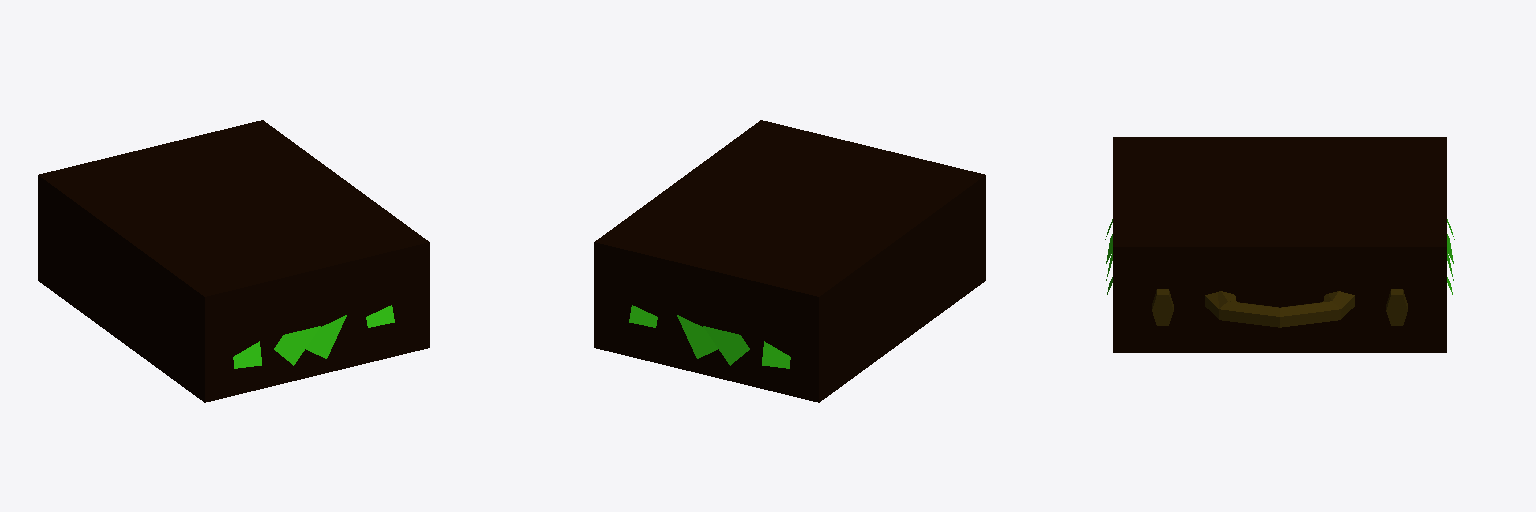
The model's file is Rat_Case.obj.
3 renders of one model, left to right at view 1: azimuth 30°, elevation 25°; view 2: azimuth 150°, elevation 25°; view 3: azimuth 270°, elevation 25°, orthographic.
Visible parts, largest first — view 1: Rat_Case; view 2: Rat_Case; view 3: Rat_Case.
Part boxes in pixels (x1,y1,x2,y2): Rat_Case: (38,120,429,402); Rat_Case: (594,120,985,402); Rat_Case: (1105,137,1454,352).
Size of the model in its own units: 0.089 by 0.0334 by 0.1003.